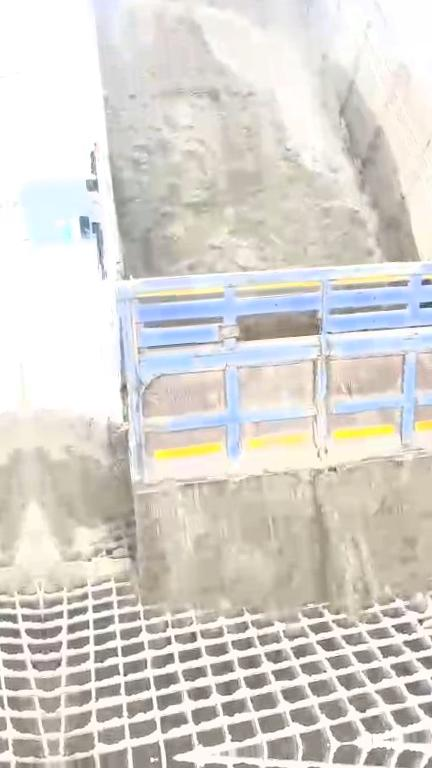sand: (99, 2, 374, 276), (137, 458, 432, 612), (25, 409, 132, 585)
